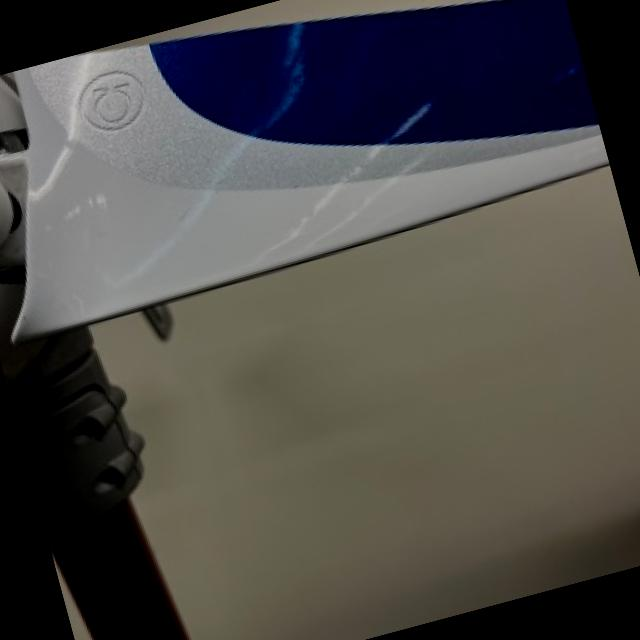healthy: (90, 168, 640, 640), (105, 0, 454, 46)
